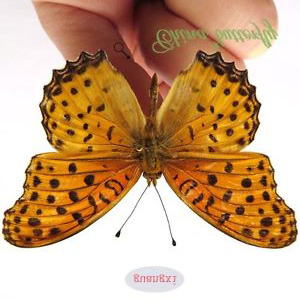Argyreus hyperbius: (1, 48, 300, 251)
butterfly: (1, 46, 300, 249)
